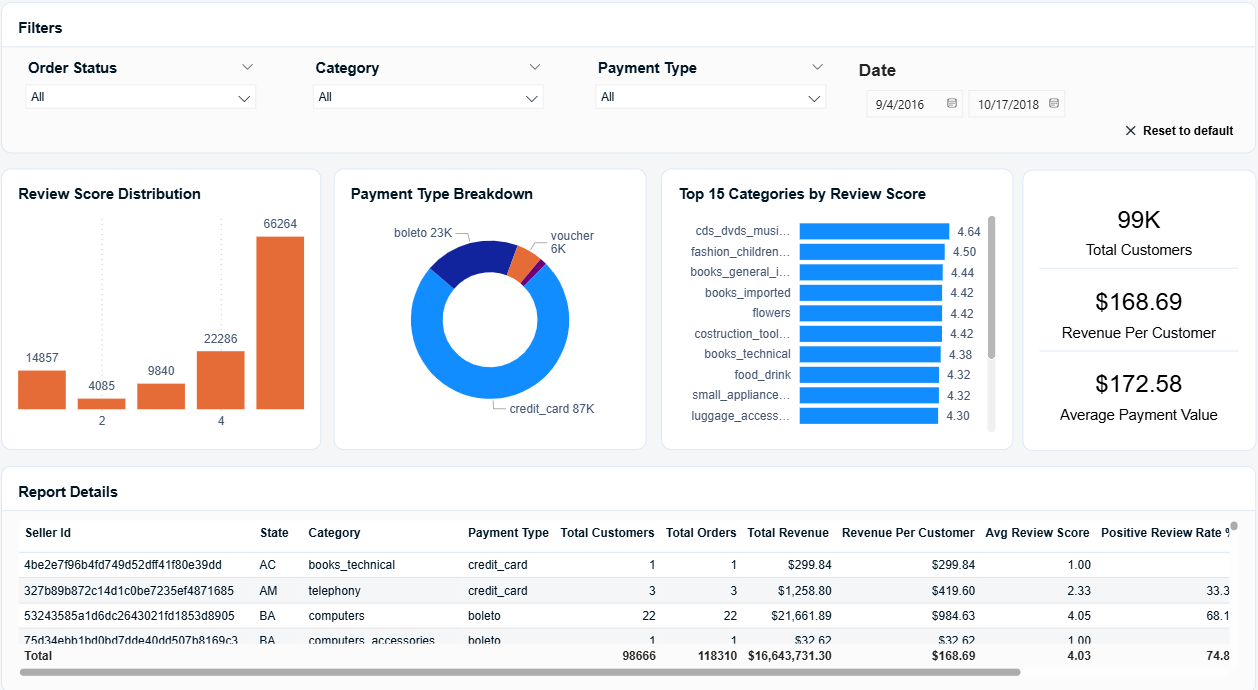

The page's visual inventory and layout, read from the dashboard file:
{"tool":"powerbi","page":{"name":"Customer & Review Analytics","canvas":[1280,720],"ordinal":2},"visuals":[{"type":"tableEx","title":"Report Details","fields":{"Values":["analytics dim_sellers.seller_id","analytics dim_sellers.state","analytics dim_products.category_name_en","analytics fact_orders.payment_type","analytics fact_orders.Total Customers","analytics fact_orders.Total Orders","analytics fact_orders.Total Revenue","analytics fact_orders.Revenue Per Customer","analytics fact_orders.Avg Review Score","analytics fact_orders.Positive Review Rate %","analytics fact_orders.1 Star Rate %","analytics fact_orders.Negative Review Rate %"]},"box":[16,478,1248.5,226],"z":0},{"type":"shape","title":"Filters","box":[16,16,1248.5,150],"z":1},{"type":"slicer","title":"Location Filter","fields":{"Values":["analytics dim_order_status.order_status"]},"box":[30,68.2,250,70],"z":2},{"type":"slicer","title":"Supplier Status Filter","fields":{"Values":["analytics dim_payment_types.payment_type"]},"box":[597.1,68.6,250,70],"z":3},{"type":"slicer","title":"Supplier Filter","fields":{"Values":["analytics dim_products.category_name_en"]},"box":[315.7,68.6,250,70],"z":6},{"type":"slicer","title":"Date","fields":{"Values":["analytics dim_date.full_date"]},"box":[864.3,68.6,250,70],"z":7},{"type":"clusteredBarChart","title":"Top 15 Categories by Review Score","fields":{"Category":["analytics dim_products.category_name_en"],"Y":["analytics fact_orders.Avg Review Score"]},"box":[672.9,181.4,350,280],"z":8},{"type":"clusteredColumnChart","title":"Review Score Distribution","fields":{"Y":["analytics fact_orders.Total Orders"],"Category":["analytics fact_orders.review_score"]},"box":[15.7,181.4,318.6,280],"z":9},{"type":"donutChart","title":"Payment Type Breakdown","fields":{"Category":["analytics dim_payment_types.payment_type"],"Y":["analytics fact_orders.Total Orders"]},"box":[347.1,181.4,311.4,280],"z":10},{"type":"image","box":[1206.8,192.4,26.6,26.6],"z":15},{"type":"group","id":"g1","title":"Group 1","box":[1128.8,129.4,133.9,30.1],"z":19},{"type":"cardVisual","title":"Card (Single or Multi-Row)","fields":{"Data":["analytics fact_orders.Total Customers","analytics fact_orders.Revenue Per Customer","Avg(analytics fact_orders.payment_value)"]},"box":[1032.5,182.5,232.5,280],"z":21},{"type":"image","title":"Reset to default Image","box":[1128.8,132.2,23.9,23.9],"z":12000,"group":"g1"},{"type":"actionButton","title":"Reset to default Button","box":[1132.3,129.4,130.3,30.1],"z":13000,"group":"g1"}]}

Visuals, with their boxes in screenshot pixels (x1, y1, x2, y2), scaled from the page's 1280x720 canvas onto the 1258x690 screenshot:
"Report Details" tableEx: [16, 458, 1243, 675]
"Filters" shape: [16, 15, 1243, 159]
"Location Filter" slicer: [29, 65, 275, 132]
"Supplier Status Filter" slicer: [587, 66, 833, 133]
"Supplier Filter" slicer: [310, 66, 556, 133]
"Date" slicer: [849, 66, 1095, 133]
"Top 15 Categories by Review Score" clusteredBarChart: [661, 174, 1005, 442]
"Review Score Distribution" clusteredColumnChart: [15, 174, 329, 442]
"Payment Type Breakdown" donutChart: [341, 174, 647, 442]
image: [1186, 184, 1212, 210]
"Group 1" group: [1109, 124, 1241, 153]
"Card (Single or Multi-Row)" cardVisual: [1015, 175, 1243, 443]
"Reset to default Image" image: [1109, 127, 1133, 150]
"Reset to default Button" actionButton: [1113, 124, 1241, 153]
